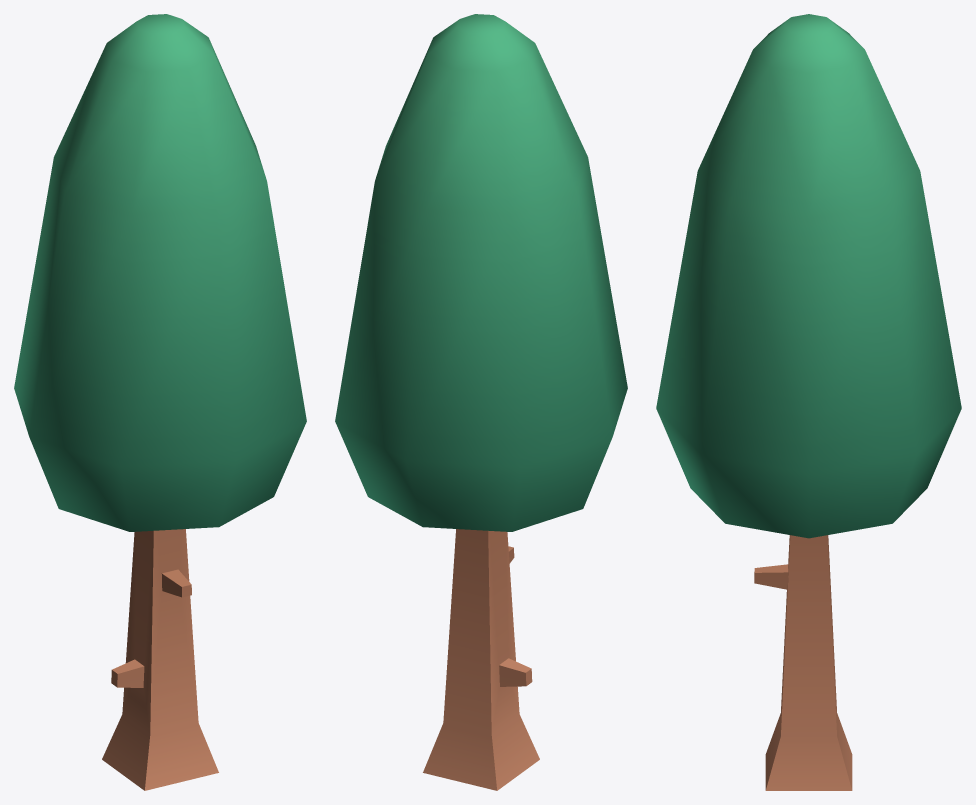
The model's file is tree-high-round_lev1.glb.
3 views of the same model, side by side, from view 1: azimuth 30°, elevation 25°; view 2: azimuth 150°, elevation 25°; view 3: azimuth 270°, elevation 25° (orthographic).
Visible parts, largest first — view 1: tree-high-round_lev1; view 2: tree-high-round_lev1; view 3: tree-high-round_lev1.
Boxes of the visible parts, x1=… form: tree-high-round_lev1: x1=14, y1=14, x2=306, y2=790; tree-high-round_lev1: x1=335, y1=14, x2=627, y2=790; tree-high-round_lev1: x1=656, y1=14, x2=961, y2=790.
Size of the model in its own units: 1.02 by 2.75 by 1.02.
1 material, 1 textured.
